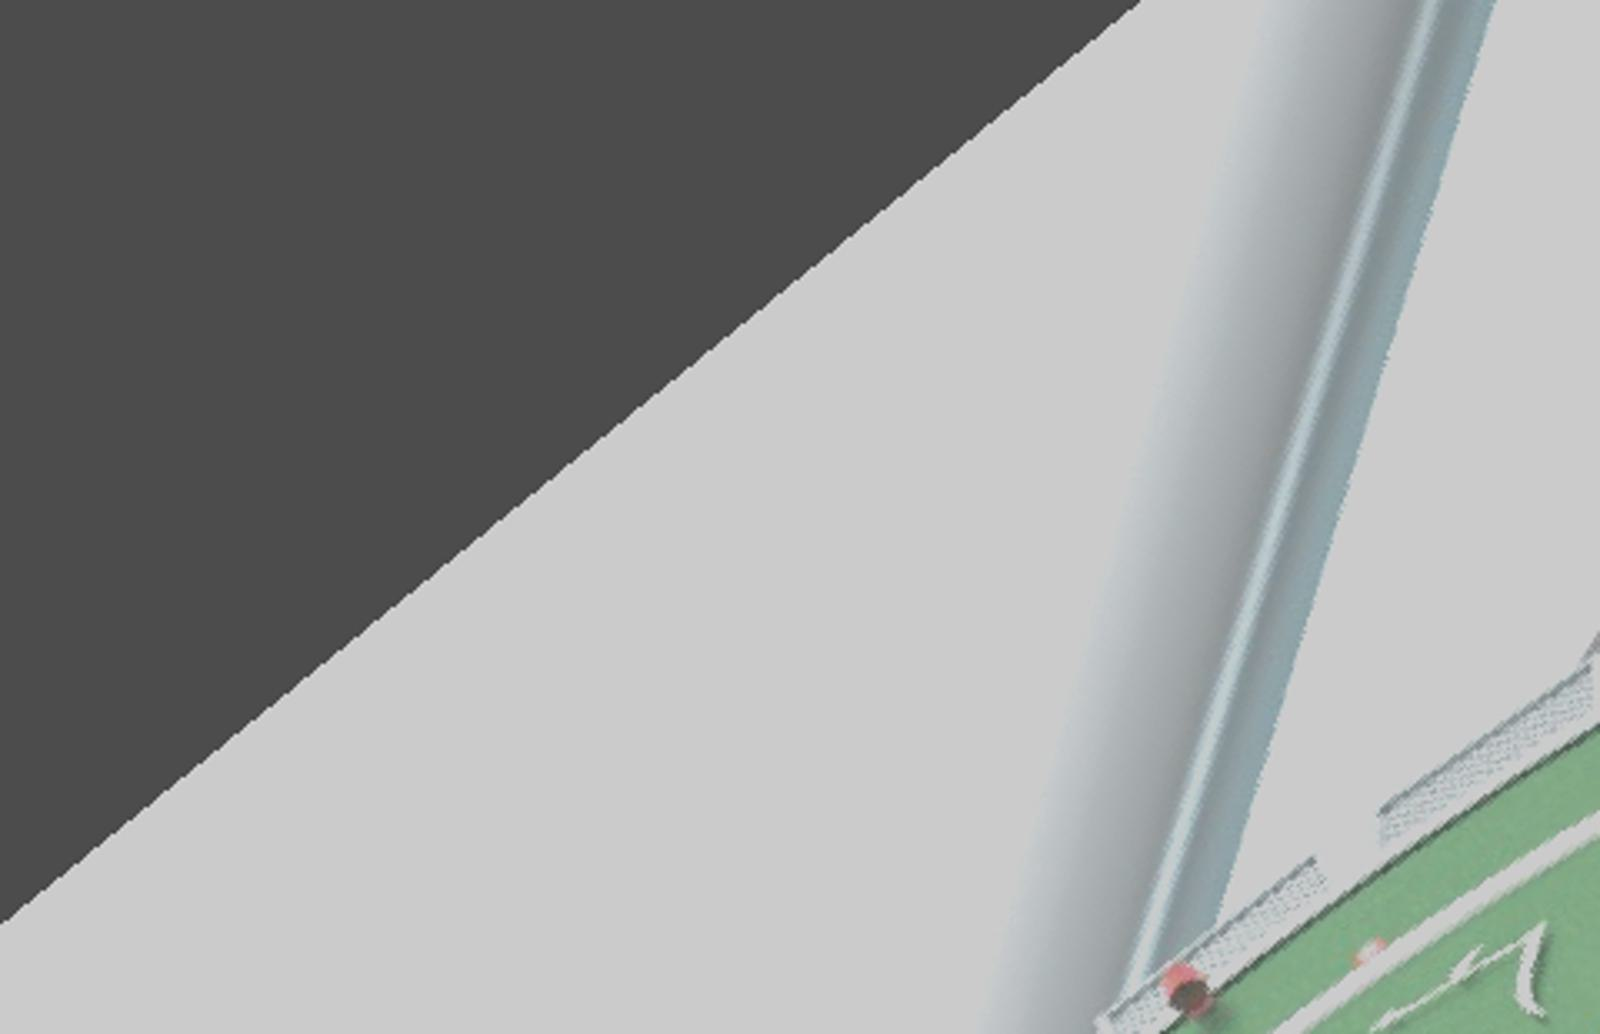Apron: (1259, 801, 1600, 1028)
